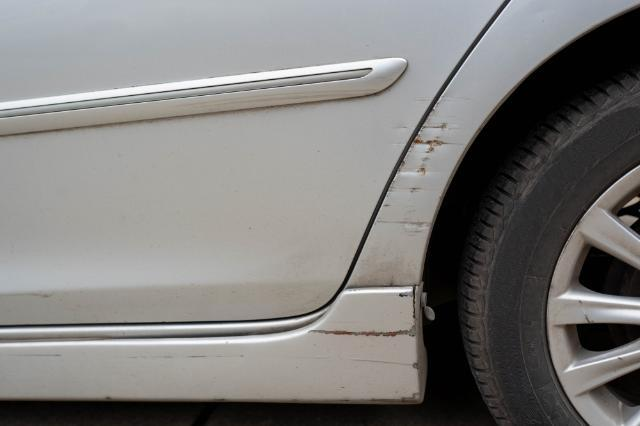scratch: (373, 95, 468, 236), (301, 288, 420, 344)
